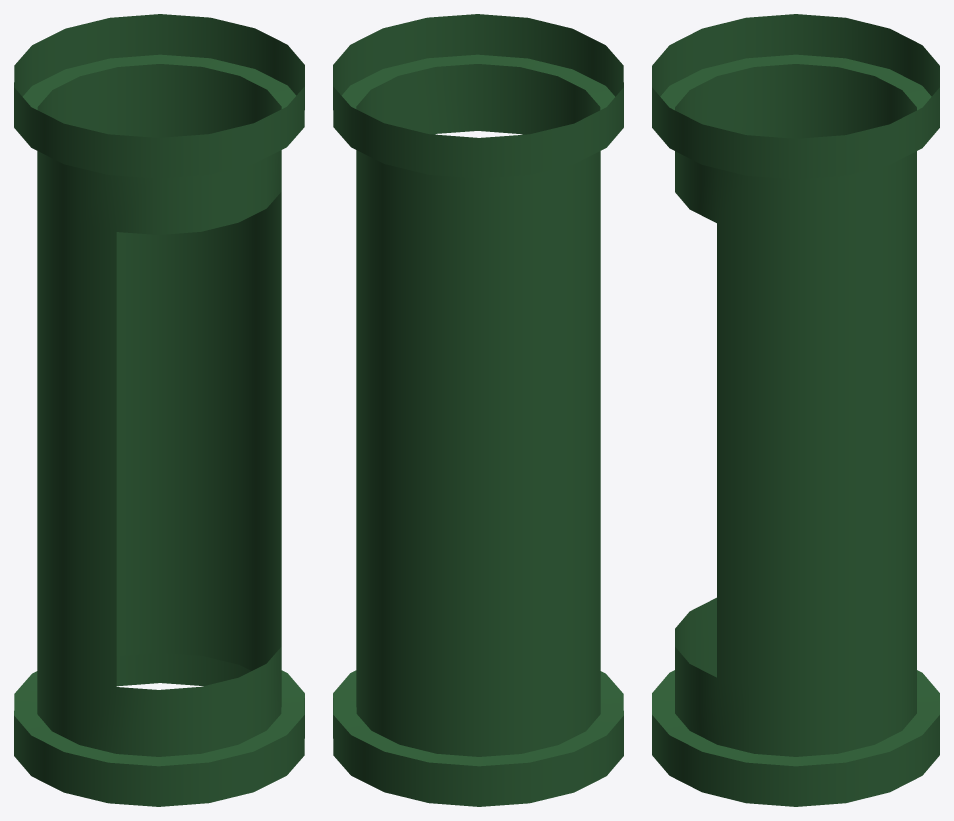
The model's file is tuberia recta final.fbx.
3 renders of one model, left to right at view 1: azimuth 30°, elevation 25°; view 2: azimuth 150°, elevation 25°; view 3: azimuth 270°, elevation 25°, orthographic.
Visible parts, largest first — view 1: Object007; view 2: Object007; view 3: Object007.
Boxes of the visible parts, x1=… form: Object007: x1=14, y1=14, x2=304, y2=806; Object007: x1=333, y1=14, x2=623, y2=806; Object007: x1=652, y1=14, x2=939, y2=806.
Bounding box in the file's own units: 0.4035 × 1.01 × 0.3929.
